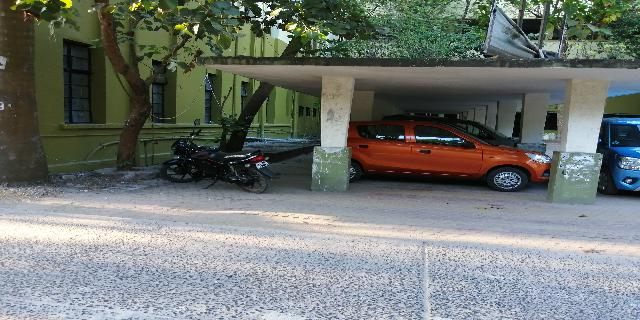Car: (349, 116, 553, 199), (597, 110, 640, 194)
Motorbike: (160, 128, 276, 200)
